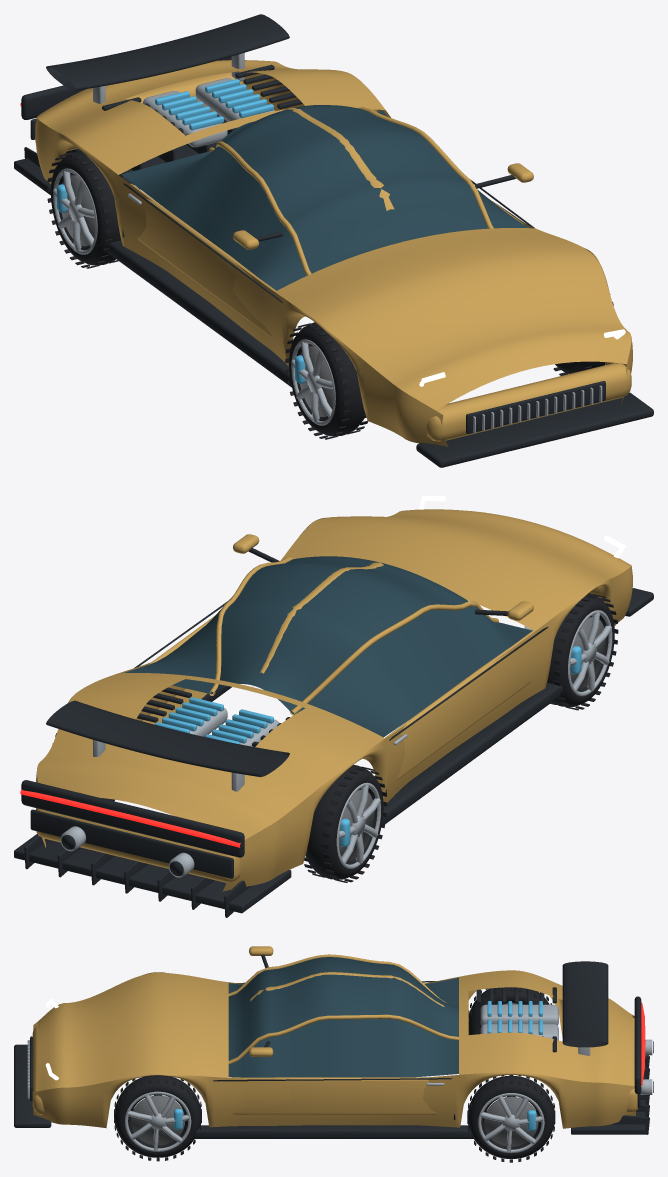
The model's file is concept-vesper.glb.
The picture shows the model from 3 angles, top to bottom: view 1: azimuth 30°, elevation 25°; view 2: azimuth 150°, elevation 25°; view 3: azimuth 270°, elevation 25°; orthographic projection. The views are drawn at different scales.
Parts seen in each view (by area): view 1: Hood, RoofGlass, RearBodyDeck, SideGlazing, SculptedSidePanelL, Wing, FrontSplitter, DoorL, FrontBumper, Engine, CarbonSillL, TireFrontL (+15 smaller); view 2: RearBodyDeck, Hood, RoofGlass, SideGlazing, SculptedSidePanelL, Wing, Diffuser, DoorL, RearLampFascia, TireRearL, CarbonSillL, RearIntake (+14 smaller); view 3: Hood, SculptedSidePanelR, RoofGlass, SideGlazing, RearBodyDeck, DoorR, Wing, CarbonSillR, TireRearR, TireFrontR, Engine, RoofFrame (+17 smaller).
Boxes of the visible parts, bbox=[...] form: Hood: bbox=[275, 228, 631, 410]; RoofGlass: bbox=[214, 105, 487, 273]; RearBodyDeck: bbox=[37, 60, 385, 174]; SideGlazing: bbox=[121, 110, 530, 290]; SculptedSidePanelL: bbox=[35, 114, 448, 446]; Wing: bbox=[46, 14, 289, 90]; FrontSplitter: bbox=[416, 392, 653, 467]; DoorL: bbox=[130, 183, 276, 337]; FrontBumper: bbox=[426, 363, 631, 441]; Engine: bbox=[143, 78, 274, 147]; CarbonSillL: bbox=[107, 240, 291, 387]; TireFrontL: bbox=[285, 322, 368, 439]; RearBodyDeck: bbox=[37, 673, 384, 839]; Hood: bbox=[280, 509, 631, 630]; RoofGlass: bbox=[212, 556, 468, 713]; SideGlazing: bbox=[124, 598, 532, 737]; SculptedSidePanelL: bbox=[222, 566, 632, 891]; Wing: bbox=[46, 700, 289, 777]; Diffuser: bbox=[14, 834, 291, 917]; DoorL: bbox=[385, 630, 534, 780]; RearLampFascia: bbox=[21, 780, 244, 857]; TireRearL: bbox=[304, 765, 386, 882]; CarbonSillL: bbox=[382, 683, 563, 823]; RearIntake: bbox=[30, 809, 233, 878]; Hood: bbox=[38, 973, 228, 1091]; SculptedSidePanelR: bbox=[33, 1072, 635, 1128]; RoofGlass: bbox=[228, 957, 458, 1060]; SideGlazing: bbox=[228, 977, 458, 1077]; RearBodyDeck: bbox=[459, 970, 632, 1085]; DoorR: bbox=[228, 1077, 436, 1114]; Wing: bbox=[562, 961, 608, 1047]; CarbonSillR: bbox=[194, 1125, 473, 1138]; TireRearR: bbox=[467, 1075, 555, 1162]; TireFrontR: bbox=[114, 1075, 201, 1161]; Engine: bbox=[480, 1001, 558, 1040]; RoofFrame: bbox=[228, 954, 458, 1064].
Bounding box in the file's own units: 2.1 × 1.27 × 5.31.
